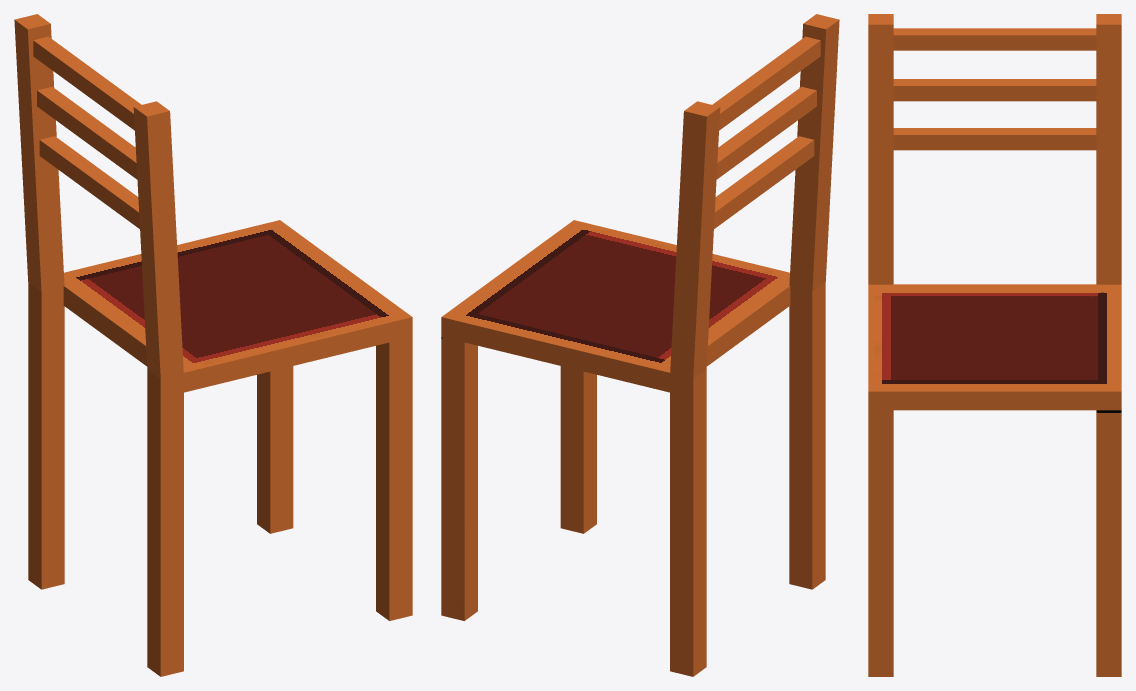
File: chair.glb
3 renders of one model, left to right at view 1: azimuth 30°, elevation 25°; view 2: azimuth 150°, elevation 25°; view 3: azimuth 270°, elevation 25°, orthographic. The views are drawn at different scales.
Parts seen in each view (by area): view 1: Cube; view 2: Cube; view 3: Cube.
Part boxes in pixels (x1,y1,x2,y2): Cube: (14,14,412,676); Cube: (441,14,839,676); Cube: (868,14,1121,676).
Size of the model in its own units: 2.31 by 4.69 by 2.
1 material, 1 textured.
